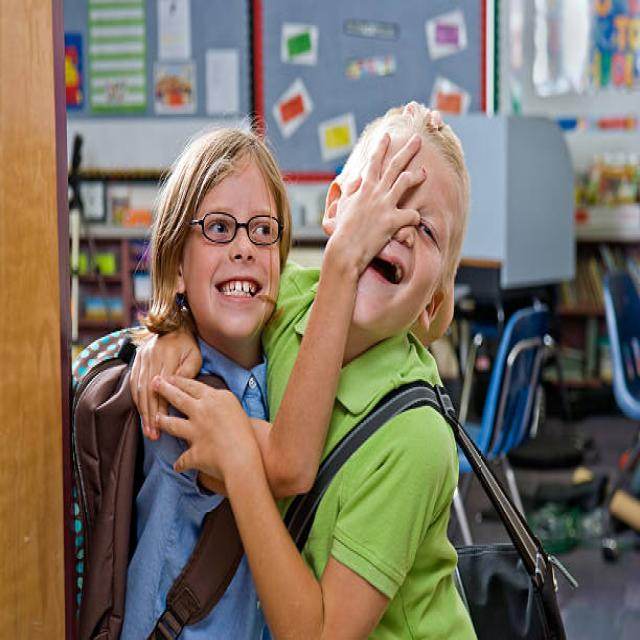fight: (153, 102, 464, 640)
